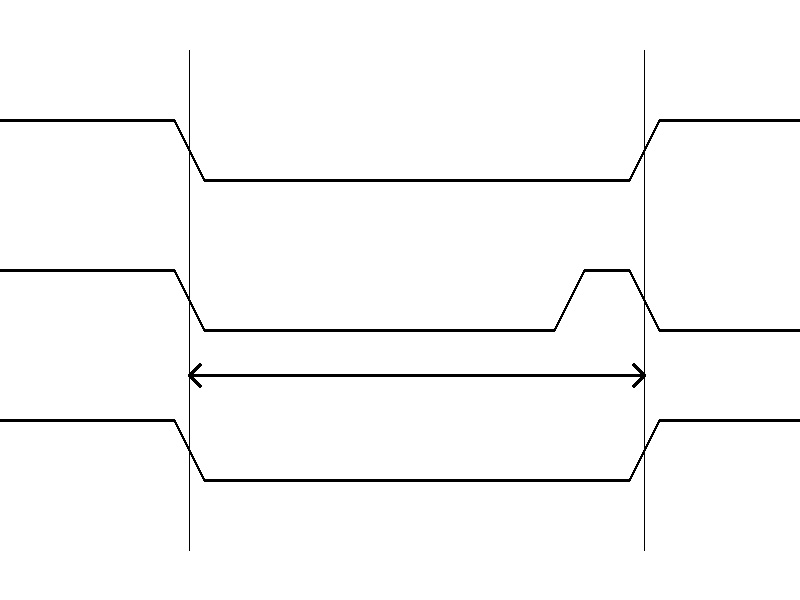double_arrow: (189, 360, 644, 390)
